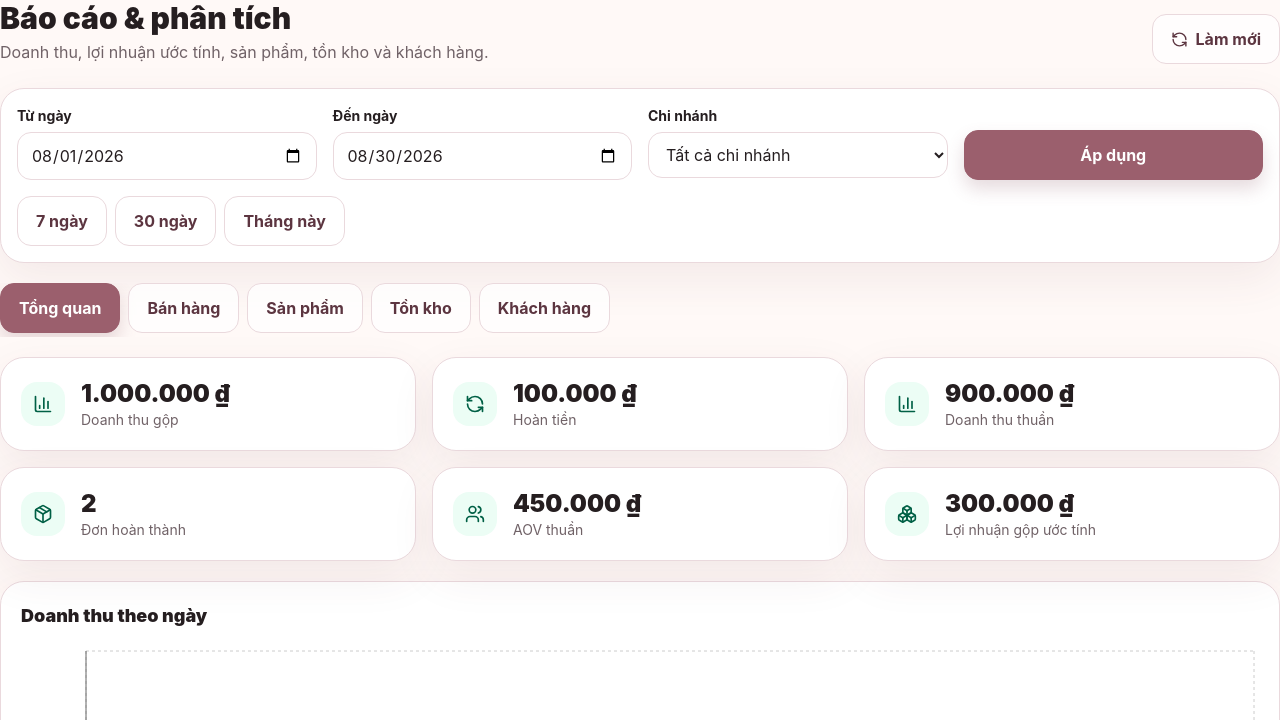
Scenario: ReportsPage › hiển thị empty state và phân trang product report
This screenshot has width=1280, height=720.
Click the button "Sản phẩm" at [305, 308], box [247,283,363,333]
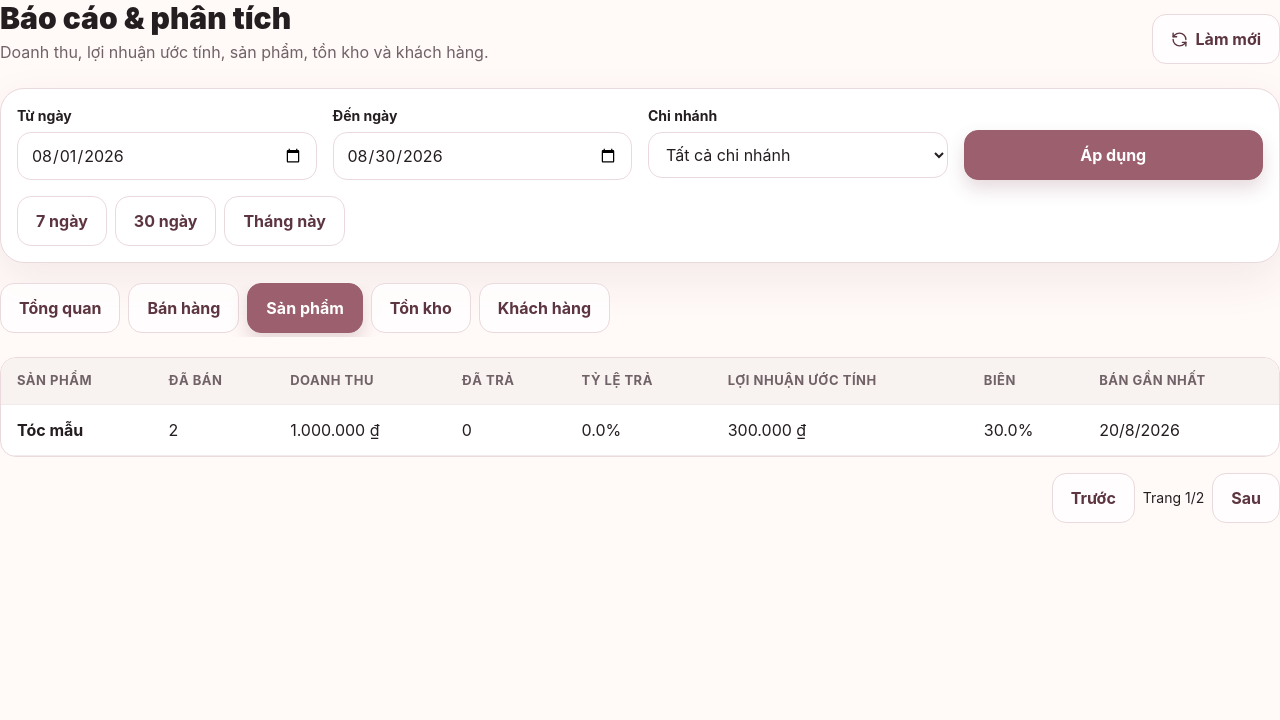
Result: the text "Tóc mẫu" is shown at [17,420,83,440]
Click the button "Sau" at [1246, 498], box [1212,472,1279,522]
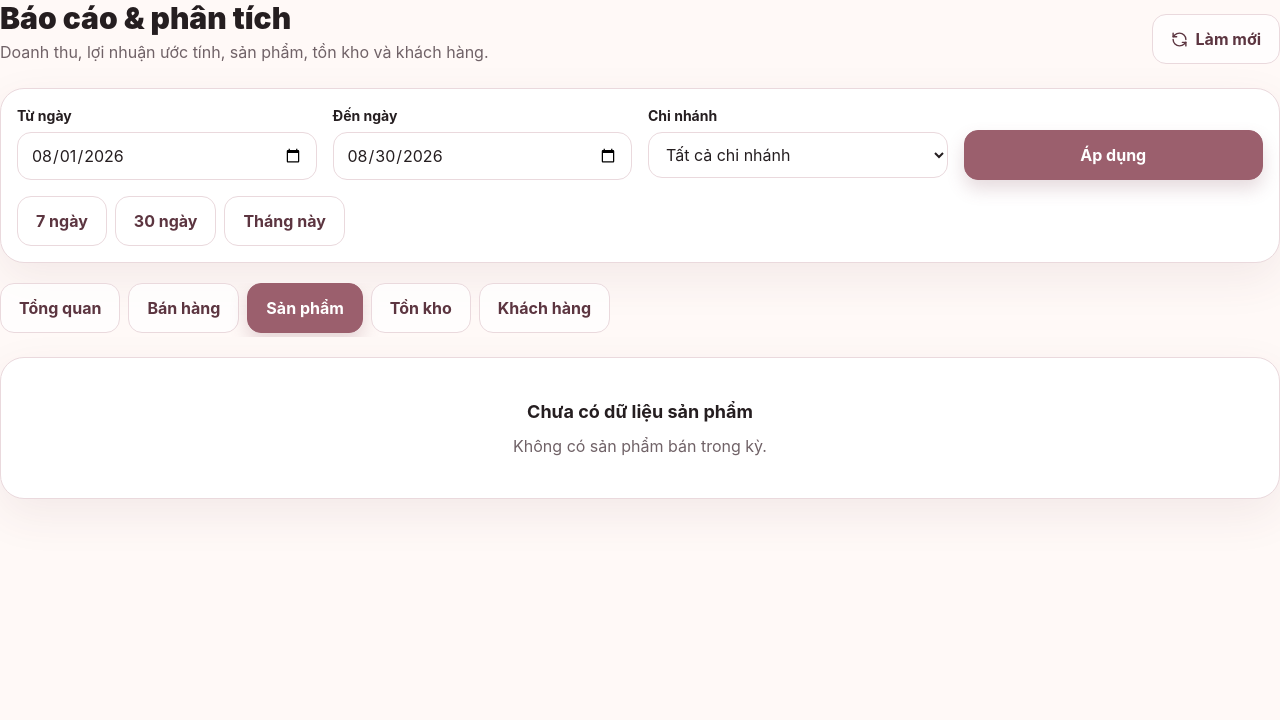
Result: the heading "Chưa có dữ liệu sản phẩm" is shown at [527,401,753,422]
